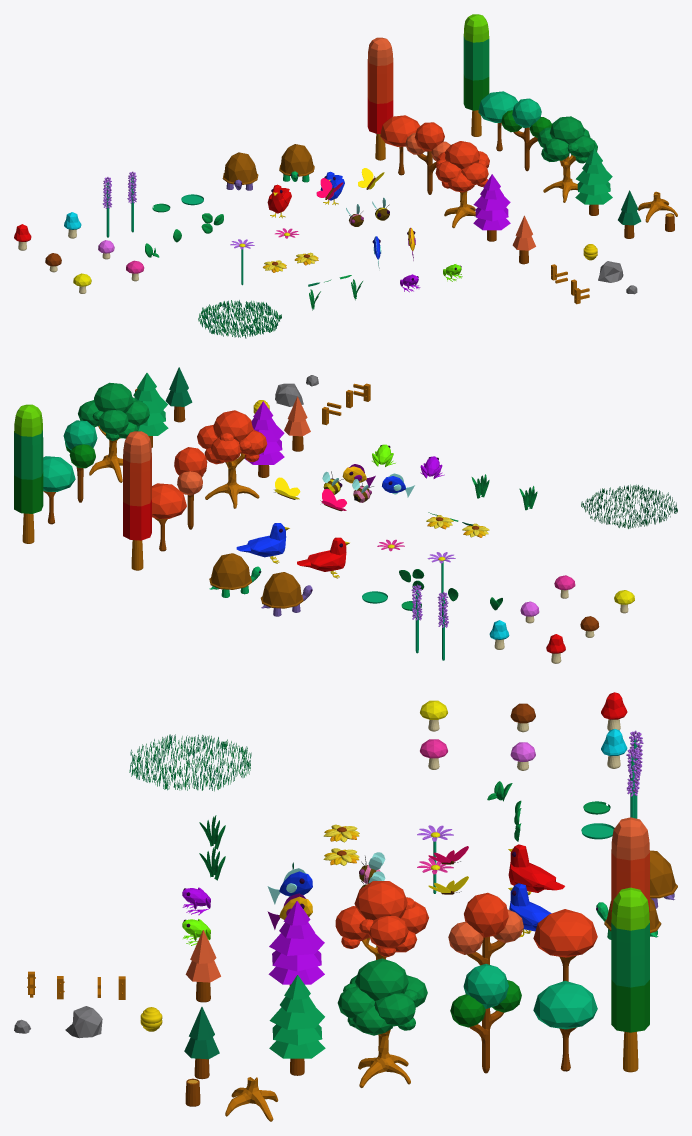
Rendered from Low-Poly Nature Pack fbx.fbx.
The picture shows the model from 3 angles, top to bottom: view 1: azimuth 30°, elevation 25°; view 2: azimuth 150°, elevation 25°; view 3: azimuth 270°, elevation 25°; orthographic projection. The views are drawn at different scales.
Visible parts, largest first — view 1: Tree 1 - Solidified, Tree 4 - Solidified, Tree 1 - Canopy, Tree 4 - Canopy, Grass Patch - Circle, Tree 3 - Solidified, Tree 5 - Solidified, Tree 5 - Canopy, Turtle - Solidified, Tree 2 - Solidified, Tree 2 - Canopy, Turtle - Shell (+4 smaller); view 2: Tree 1 - Solidified, Tree 4 - Solidified, Tree 1 - Canopy, Tree 4 - Canopy, Grass Patch - Circle, Tree 3 - Solidified, Turtle - Solidified, Tree 5 - Solidified, Tree 5 - Canopy, Turtle - Shell, Tree 2 - Solidified, Tree 2 - Canopy (+8 smaller); view 3: Tree 4 - Solidified, Tree 1 - Solidified, Tree 4 - Canopy, Grass Patch - Circle, Tree 3 - Solidified, Tree 5 - Solidified, Tree 5 - Canopy, Tree 1 - Canopy, Tree 2 - Solidified, Tree 2 - Canopy, Tree 3 - Canopy 1, Tree 3 - Canopy 2 (+9 smaller).
Boxes of the visible parts, left/top/right/bottom form: Tree 1 - Solidified: left=463, top=14, right=489, bottom=136; Tree 4 - Solidified: left=537, top=116, right=597, bottom=202; Tree 1 - Canopy: left=367, top=37, right=393, bottom=133; Tree 4 - Canopy: left=435, top=141, right=489, bottom=192; Grass Patch - Circle: left=198, top=300, right=281, bottom=338; Tree 3 - Solidified: left=501, top=98, right=551, bottom=171; Tree 5 - Solidified: left=575, top=148, right=612, bottom=215; Tree 5 - Canopy: left=473, top=174, right=510, bottom=230; Turtle - Solidified: left=279, top=144, right=314, bottom=182; Tree 2 - Solidified: left=478, top=91, right=517, bottom=151; Tree 2 - Canopy: left=380, top=115, right=419, bottom=146; Turtle - Shell: left=222, top=152, right=258, bottom=184; Tree 1 - Solidified: left=14, top=404, right=43, bottom=543; Tree 4 - Solidified: left=78, top=382, right=149, bottom=482; Tree 1 - Canopy: left=123, top=431, right=151, bottom=540; Tree 4 - Canopy: left=197, top=410, right=267, bottom=464; Grass Patch - Circle: left=581, top=484, right=677, bottom=528; Tree 3 - Solidified: left=63, top=420, right=97, bottom=502; Turtle - Solidified: left=209, top=553, right=261, bottom=597; Tree 5 - Solidified: left=133, top=373, right=168, bottom=447; Tree 5 - Canopy: left=244, top=401, right=284, bottom=464; Turtle - Shell: left=260, top=572, right=303, bottom=608; Tree 2 - Solidified: left=43, top=456, right=75, bottom=524; Tree 2 - Canopy: left=152, top=483, right=186, bottom=518; Tree 4 - Solidified: left=337, top=958, right=427, bottom=1087; Tree 1 - Solidified: left=611, top=887, right=649, bottom=1072; Tree 4 - Canopy: left=335, top=881, right=428, bottom=956; Grass Patch - Circle: left=129, top=734, right=251, bottom=791; Tree 3 - Solidified: left=450, top=964, right=521, bottom=1073; Tree 5 - Solidified: left=269, top=975, right=325, bottom=1075; Tree 5 - Canopy: left=268, top=901, right=324, bottom=984; Tree 1 - Canopy: left=611, top=817, right=649, bottom=919; Tree 2 - Solidified: left=533, top=981, right=597, bottom=1071; Tree 2 - Canopy: left=533, top=909, right=597, bottom=957; Tree 3 - Canopy 1: left=464, top=892, right=508, bottom=937; Tree 3 - Canopy 2: left=448, top=909, right=523, bottom=954.
Bounding box in the file's own units: 3300 × 871 × 2343.
